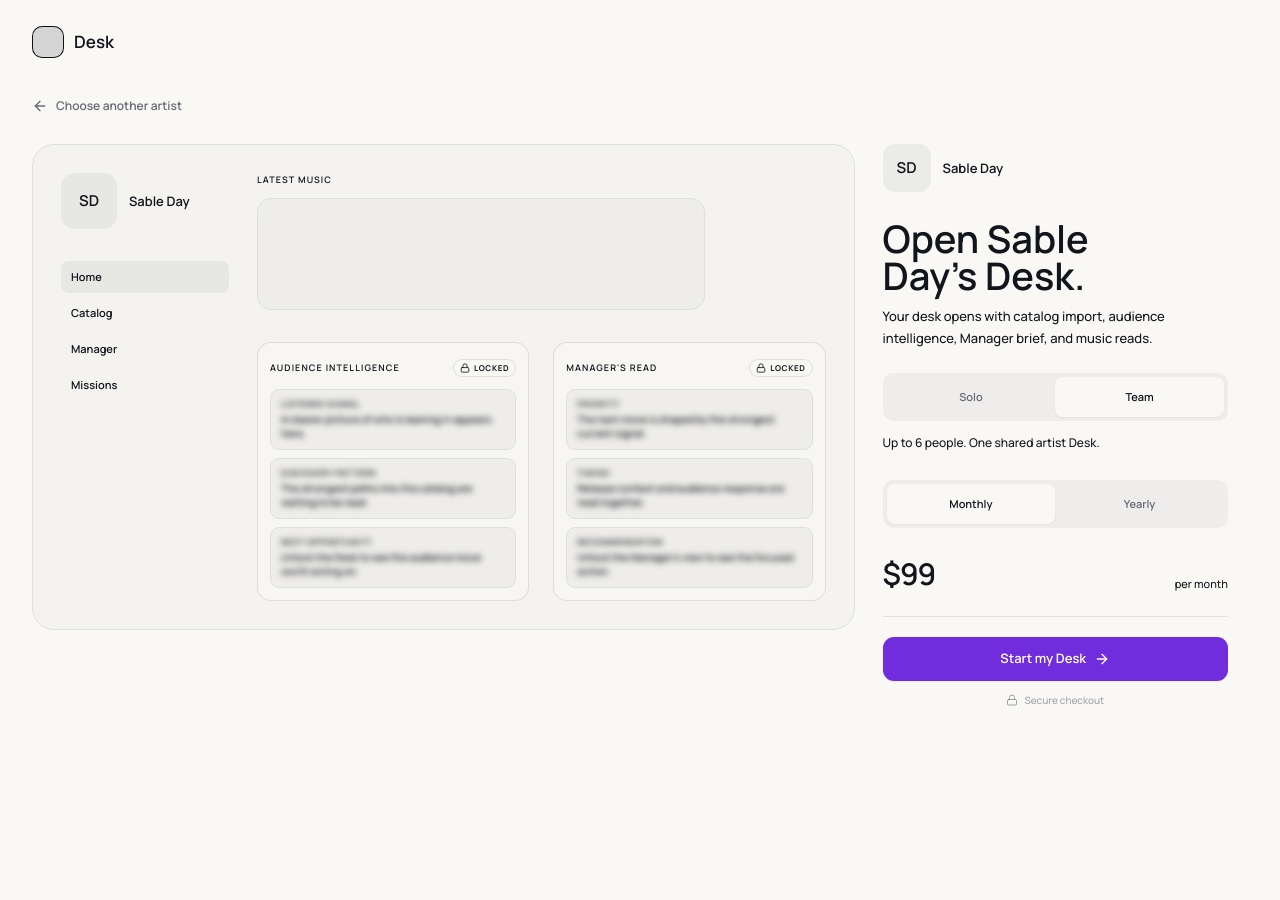
Test: provider-aware paywall › shows the Team promise after Team pricing is selected
expect the text "Up to 6 people. One shared artist Desk." is shown: met, box [882, 434, 1100, 451]
expect the text "$99" is shown: met, box [882, 552, 935, 596]
Click the button "Yearly" at (1140, 504), box [1055, 484, 1224, 524]
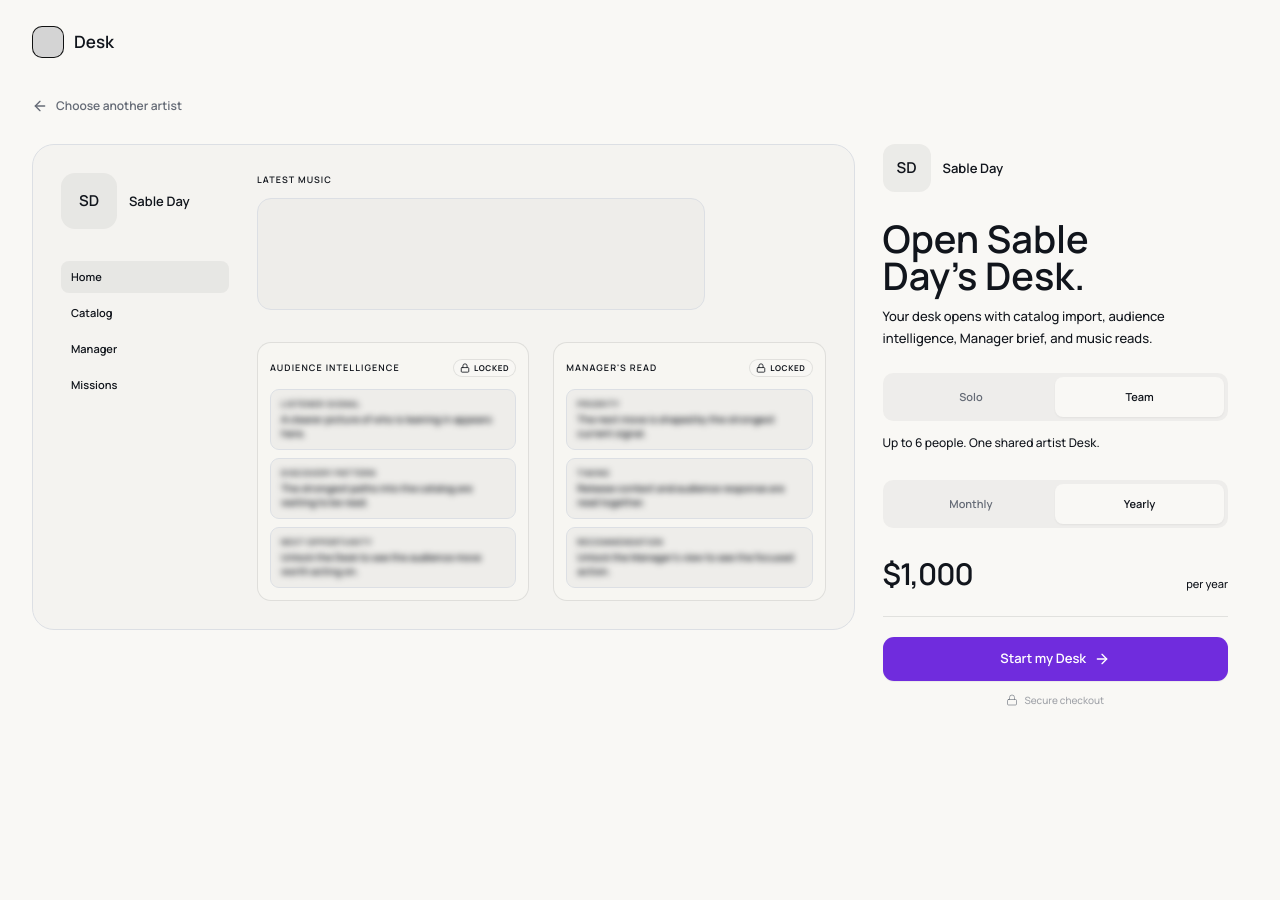
expect the text "$1,000" is shown: met, box [882, 552, 973, 596]
